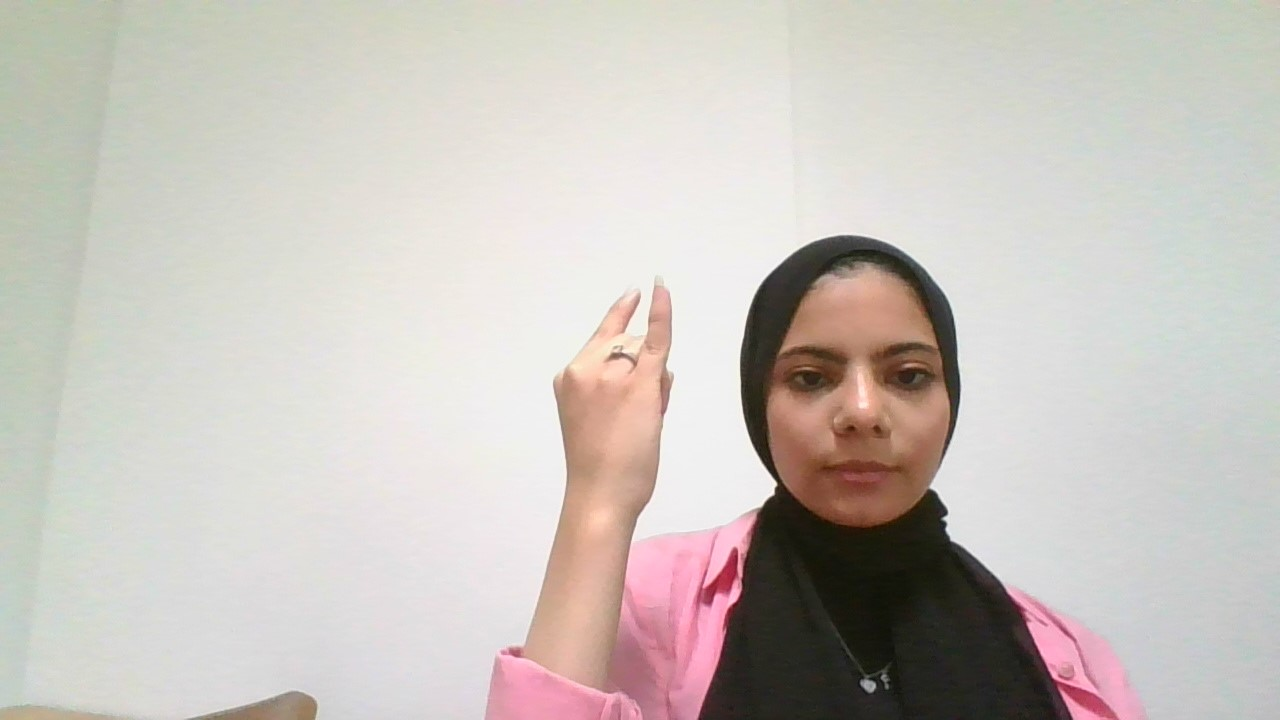love: (528, 262, 704, 544)
